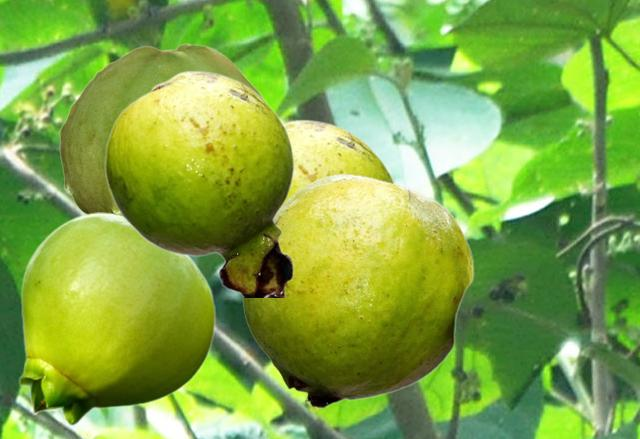guava: (242, 173, 473, 408), (104, 70, 294, 296), (18, 212, 215, 425), (59, 43, 262, 212), (284, 119, 394, 195)
